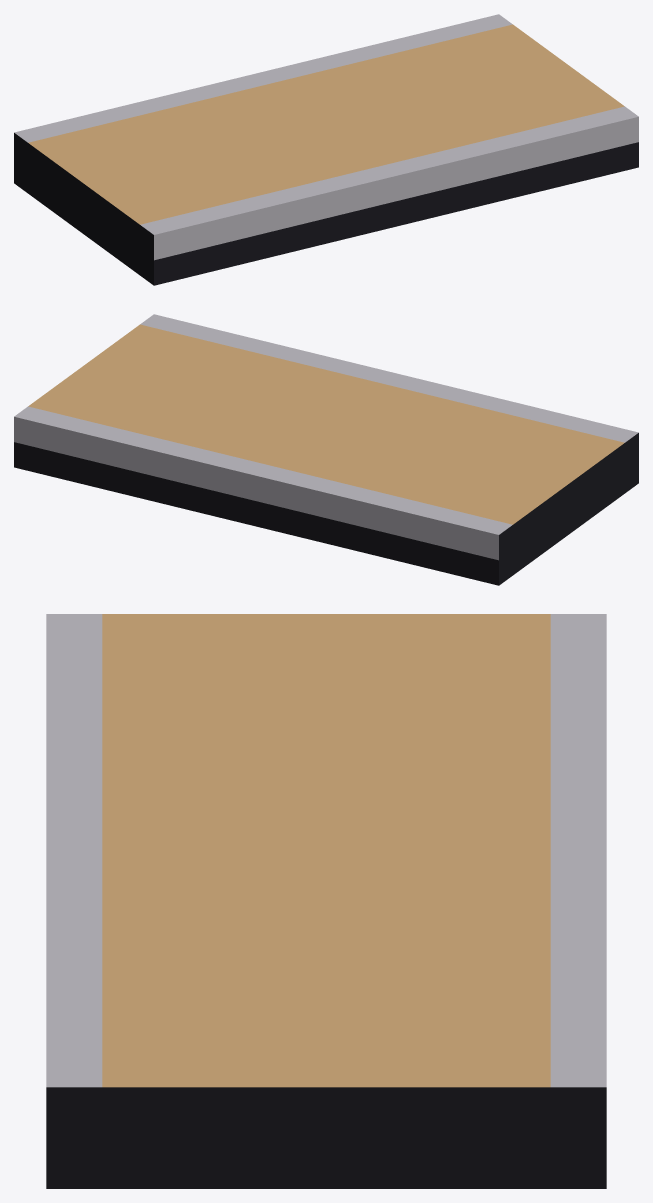
File: ManPad_Half_1_TwoGrind.fbx
3 renders of one model, top to bottom at view 1: azimuth 30°, elevation 25°; view 2: azimuth 150°, elevation 25°; view 3: azimuth 270°, elevation 25°, orthographic. The views are drawn at different scales.
Visible parts, largest first — view 1: ManPad_Half_1_TwoGrind; view 2: ManPad_Half_1_TwoGrind; view 3: ManPad_Half_1_TwoGrind.
Boxes of the visible parts, x1=… form: ManPad_Half_1_TwoGrind: x1=14, y1=14, x2=638, y2=285; ManPad_Half_1_TwoGrind: x1=14, y1=314, x2=638, y2=585; ManPad_Half_1_TwoGrind: x1=46, y1=614, x2=606, y2=1188.
Bounding box in the file's own units: 10 × 1 × 5.
